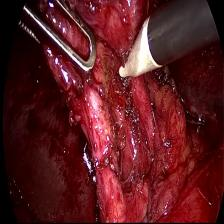Grasper: (10, 0, 98, 89)
Hook: (120, 13, 151, 93)
